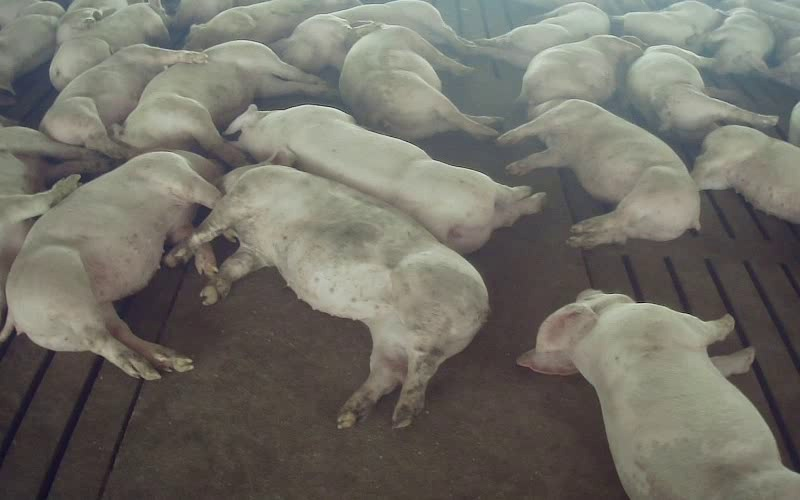pig: (166, 149, 487, 426), (517, 289, 799, 499), (0, 152, 220, 379), (116, 40, 326, 165), (40, 44, 206, 158), (339, 24, 497, 140), (626, 45, 777, 141), (270, 0, 471, 72), (691, 125, 799, 223), (518, 35, 641, 107), (475, 2, 609, 67), (619, 0, 721, 51), (703, 8, 774, 73)
